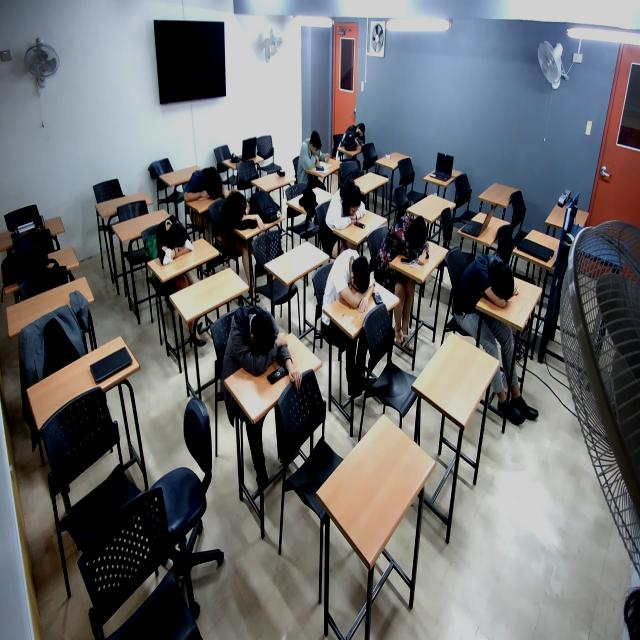sleep: (223, 302, 294, 380), (324, 248, 381, 312), (462, 252, 522, 310), (381, 209, 435, 269), (151, 210, 196, 270), (327, 181, 368, 231), (221, 191, 266, 235), (185, 164, 228, 204), (340, 121, 369, 153)
